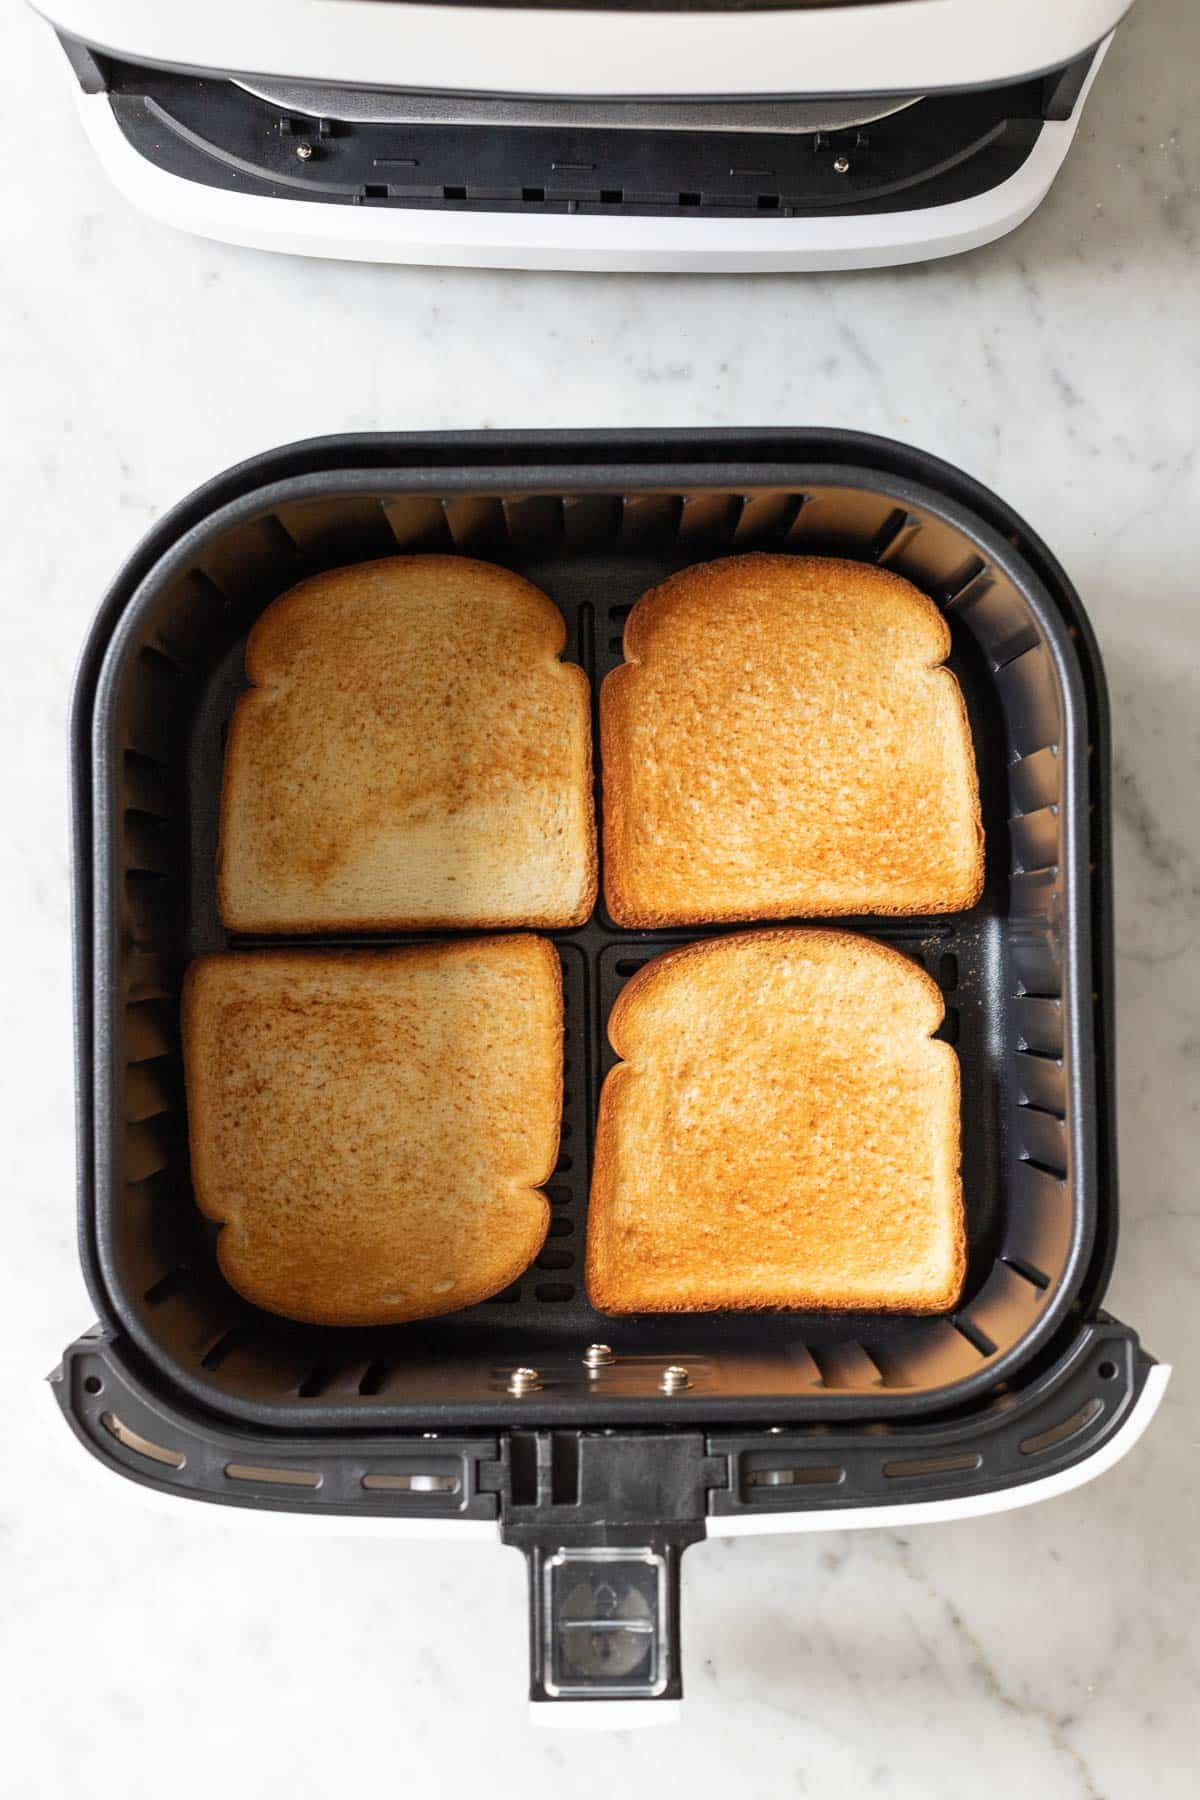Toast: (583, 927, 970, 1321), (183, 924, 560, 1325), (596, 546, 988, 907), (238, 560, 587, 940)
